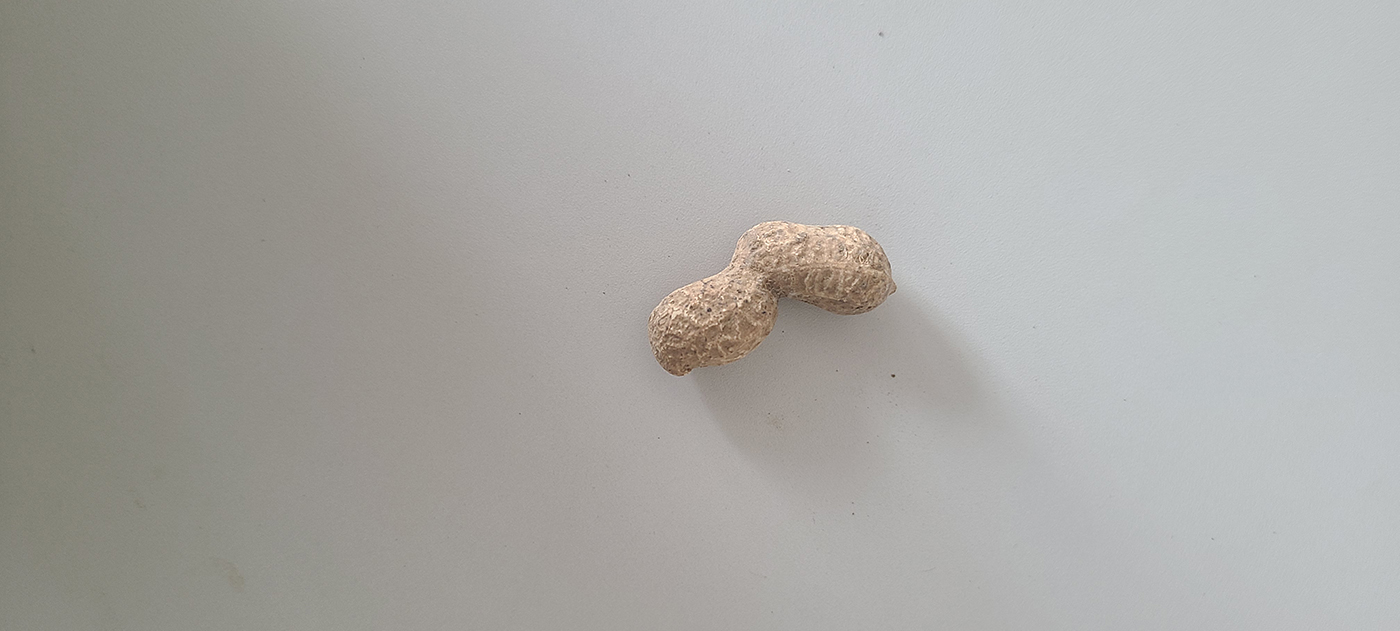h: (646, 212, 898, 382)
